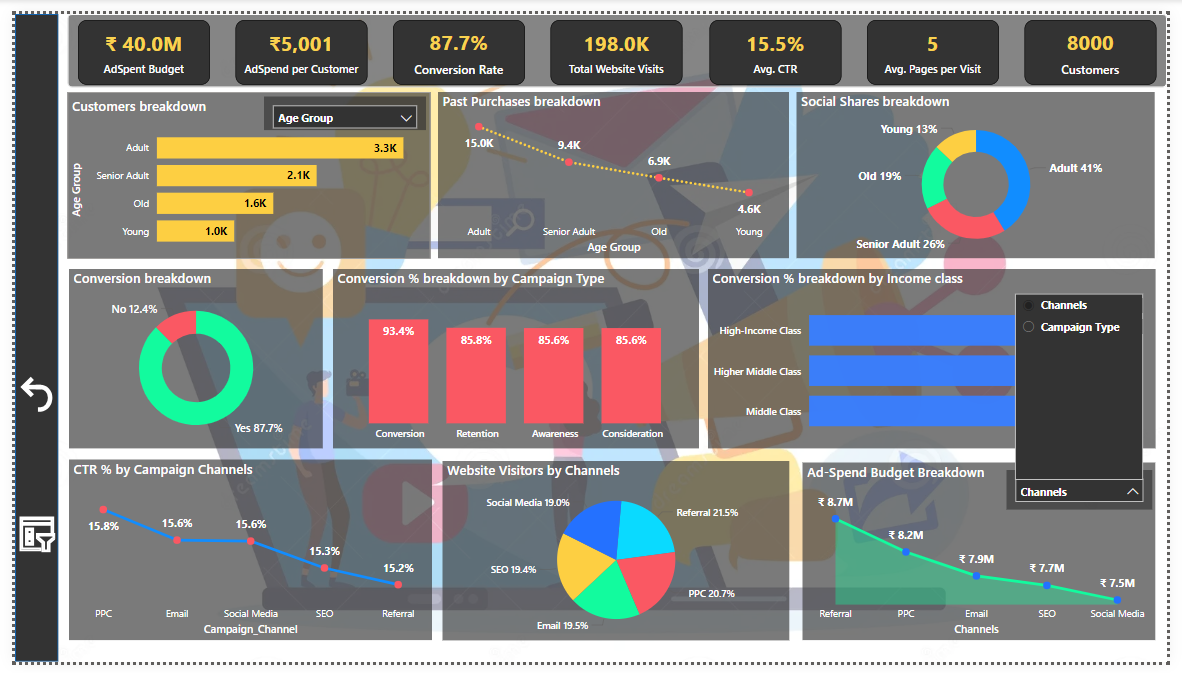

The page's visual inventory and layout, read from the dashboard file:
{"tool":"powerbi","page":{"name":"Dashboard","canvas":[1280,720],"ordinal":0},"visuals":[{"type":"shape","box":[0,0,48.2,719.6],"z":0},{"type":"shape","box":[58.3,0,1221.7,81.7],"z":0,"group":"g1"},{"type":"clusteredBarChart","title":"Customers breakdown ","fields":{"Category":["Lookup Table.Age_Group #"],"Y":["DAX Measures.Total customers/ Visitors"]},"box":[57.8,86.7,403.2,184.6],"z":0,"group":"g3"},{"type":"lineChart","title":"Ad-Spend Budget Breakdown ","fields":{"Category":["Lookup Table.Campaign_Channel"],"Y":["DAX Measures.Total AdSpend Budget"]},"box":[874.4,498.7,391.9,197.5],"z":0,"group":"g2"},{"type":"group","id":"g1","title":"KPI Group","box":[58.3,0,1221.7,81.7],"z":1000},{"type":"card","fields":{"Values":["DAX Measures.Total AdSpend Budget"]},"box":[70,6.9,146.7,71.7],"z":1000,"group":"g1"},{"type":"slicer","fields":{"Values":["set-1: Customer attributes .set-1: Customer attributes "]},"box":[276.3,91.3,179.7,37.2],"z":1000,"group":"g3"},{"type":"slicer","fields":{"Values":["Set-2: Campaign attributes.Set-2: Campaign attributes"]},"box":[1100.4,506.6,161.9,43.7],"z":1000,"group":"g2"},{"type":"card","fields":{"Values":["DAX Measures.Avg Pages per visit"]},"box":[946.4,6.9,146.7,71.7],"z":2000,"group":"g1"},{"type":"donutChart","title":"Conversion breakdown","fields":{"Category":["Lookup Table.Conversion"],"Y":["DAX Measures.Total customers/ Visitors"]},"box":[59.9,283.4,281.7,199.2],"z":2000},{"type":"card","fields":{"Values":["DAX Measures.Total Website Visits"]},"box":[595.8,6.9,146.7,71.7],"z":3000,"group":"g1"},{"type":"columnChart","title":"Conversion % breakdown by Campaign Type","fields":{"Category":["Lookup Table.Campaign_Type"],"Y":["DAX Measures.Conversion %"]},"box":[353,283.4,406.4,199.2],"z":3000},{"type":"card","fields":{"Values":["DAX Measures.Avg AdSpend"]},"box":[245.2,6.9,146.7,71.7],"z":4000,"group":"g1"},{"type":"lineChart","title":"CTR % by Campaign Channels","fields":{"Y":["DAX Measures.Avg CTR"],"Category":["Lookup Table.Campaign_Channel"]},"box":[59.9,495.5,403.2,200.8],"z":4000},{"type":"card","fields":{"Values":["DAX Measures.Total customers/ Visitors"]},"box":[1121.6,6.9,146.7,71.7],"z":5000,"group":"g1"},{"type":"pieChart","title":"Website Visitors by Channels","fields":{"Category":["Lookup Table.Campaign_Channel"],"Y":["DAX Measures.Total customers/ Visitors"]},"box":[474.4,497.1,385.4,199.2],"z":5000},{"type":"card","fields":{"Values":["DAX Measures.Avg CTR"]},"box":[771.1,6.9,146.7,71.7],"z":6000,"group":"g1"},{"type":"group","id":"g2","title":"Ad-Spend Budget Breakdown","box":[874.4,498.7,391.9,197.5],"z":6000},{"type":"card","fields":{"Values":["DAX Measures.Conversion %"]},"box":[420.5,6.9,146.7,71.7],"z":7000,"group":"g1"},{"type":"clusteredBarChart","title":"Conversion % breakdown by Income class","fields":{"Y":["DAX Measures.Conversion %"],"Category":["Lookup Table.Incom_Level_Category #"]},"box":[770.8,283.4,497.1,199.2],"z":7000},{"type":"donutChart","title":"Social Shares breakdown","fields":{"Category":["Lookup Table.Age_Group #"],"Y":["Sum(Fact Table.Social_Shares)"]},"box":[867.9,87.4,398.3,184.6],"z":8000},{"type":"group","id":"g3","title":"Group 1","box":[57.8,86.7,403.2,184.6],"z":9000},{"type":"lineChart","title":"Past Purchases breakdown","fields":{"Category":["Lookup Table.Age_Group #"],"Y":["DAX Measures.Total Past Purchases"]},"box":[469.6,87.4,390.2,184.6],"z":10000},{"type":"actionButton","box":[0,383.8,48.6,77.7],"z":11000},{"type":"actionButton","box":[0,550.5,48.6,55.1],"z":12000}]}

Visuals, with their boxes in screenshot pixels (x1, y1, x2, y2):
shape: crop(9, 9, 53, 665)
shape: crop(62, 9, 1175, 84)
"Customers breakdown " clusteredBarChart: crop(62, 88, 429, 256)
"Ad-Spend Budget Breakdown " lineChart: crop(806, 463, 1162, 643)
"KPI Group" group: crop(62, 9, 1175, 84)
card - DAX Measures.Total AdSpend Budget: crop(73, 16, 207, 81)
slicer - set-1: Customer attributes .set-1: Customer attributes : crop(261, 92, 424, 126)
slicer - Set-2: Campaign attributes.Set-2: Campaign attributes: crop(1011, 471, 1159, 510)
card - DAX Measures.Avg Pages per visit: crop(871, 16, 1005, 81)
"Conversion breakdown" donutChart: crop(64, 267, 320, 449)
card - DAX Measures.Total Website Visits: crop(552, 16, 685, 81)
"Conversion % breakdown by Campaign Type" columnChart: crop(331, 267, 701, 449)
card - DAX Measures.Avg AdSpend: crop(233, 16, 366, 81)
"CTR % by Campaign Channels" lineChart: crop(64, 460, 431, 643)
card - DAX Measures.Total customers/ Visitors: crop(1031, 16, 1164, 81)
"Website Visitors by Channels" pieChart: crop(441, 462, 792, 643)
card - DAX Measures.Avg CTR: crop(711, 16, 845, 81)
"Ad-Spend Budget Breakdown" group: crop(806, 463, 1162, 643)
card - DAX Measures.Conversion %: crop(392, 16, 526, 81)
"Conversion % breakdown by Income class" clusteredBarChart: crop(711, 267, 1164, 449)
"Social Shares breakdown" donutChart: crop(800, 89, 1162, 257)
"Group 1" group: crop(62, 88, 429, 256)
"Past Purchases breakdown" lineChart: crop(437, 89, 792, 257)
actionButton: crop(9, 359, 53, 430)
actionButton: crop(9, 511, 53, 561)
